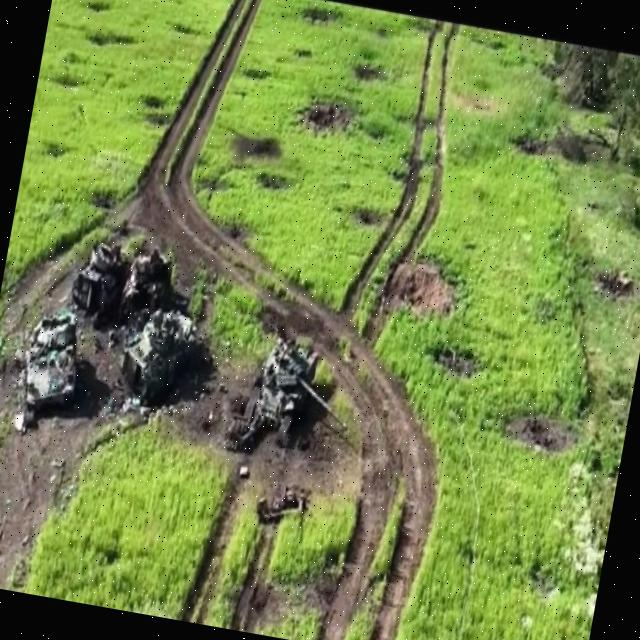AIFV: (115, 298, 208, 421), (13, 303, 93, 418), (66, 236, 138, 324), (117, 243, 177, 329)
MBT: (241, 331, 363, 469)
